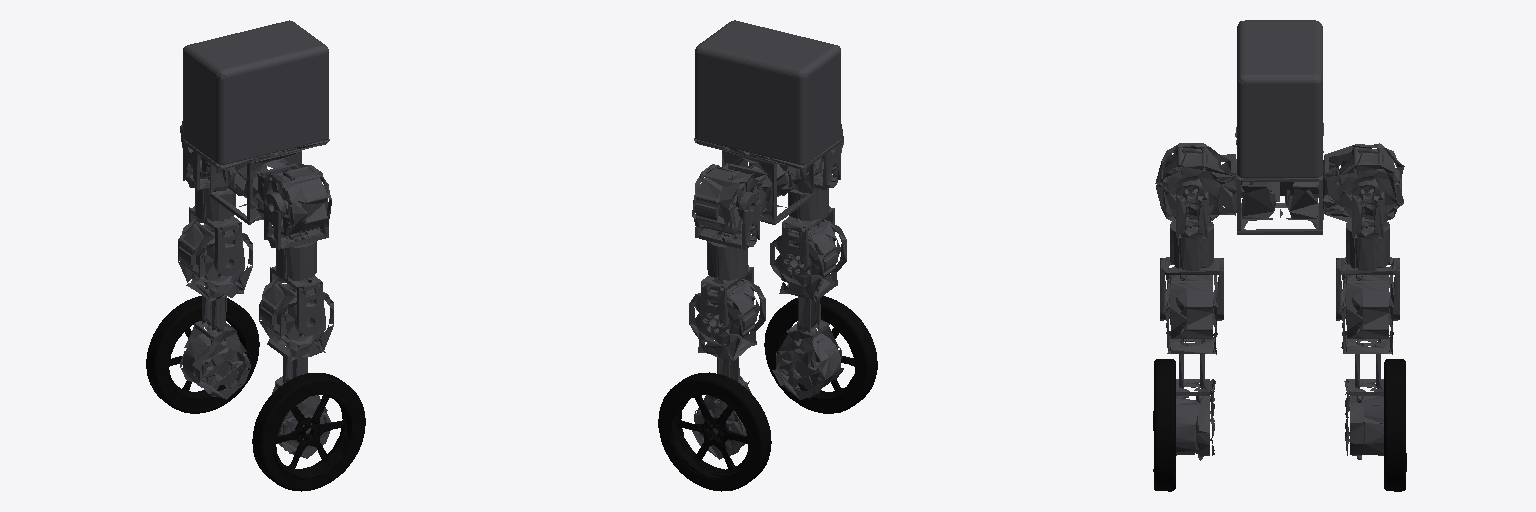
The robot description file, URDF, robot "wheeled_base":
<?xml version="1.0"?>
<!-- wheeled_base (wheeled biped). Units: m, kg, rad. X forward, Y left, Z up.
     Zero pose = straight legs; all link frames are parallel to the world frame at the zero pose. Floating base (do not fix base_link).
     Link masses are measured; centres of mass and inertias are computed from the link geometry assuming uniform density.
     Both wheel joints are positive forward. -->
<robot name="wheeled_base">
  <mujoco>
    <compiler meshdir="../meshes/" balanceinertia="true" discardvisual="false" fusestatic="false"/>
  </mujoco>
  <material name="grey"><color rgba="0.30 0.30 0.32 1"/></material>
  <material name="rubber"><color rgba="0.08 0.08 0.08 1"/></material>
  <link name="base_link">
    <inertial>
      <origin xyz="-3.340937e-06 4.382044e-06 0.06033196672" rpy="0 0 0"/>
      <mass value="3.4"/>
      <inertia ixx="0.02376990058" ixy="-5.40617e-07" ixz="-8.5821e-08" iyy="0.0264540363" iyz="1.17175e-07" izz="0.01230035642"/>
    </inertial>
    <visual>
      <origin xyz="0 0 0" rpy="0 0 0"/>
      <geometry><mesh filename="../meshes/base_link.stl"/></geometry>
      <material name="grey"/>
    </visual>
    <collision>
      <origin xyz="0 0 0" rpy="0 0 0"/>
      <geometry><mesh filename="../meshes/base_link.stl"/></geometry>
    </collision>
  </link>
  <link name="l_hip_pitch_link">
    <inertial>
      <origin xyz="0.001171727972 0.05717831507 -7.878834e-06" rpy="0 0 0"/>
      <mass value="0.907"/>
      <inertia ixx="0.001008160693" ixy="-6.536528e-06" ixz="-7.508e-09" iyy="0.000678051682" iyz="-3.31661e-07" izz="0.000874556307"/>
    </inertial>
    <visual>
      <origin xyz="0 0 0" rpy="0 0 0"/>
      <geometry><mesh filename="../meshes/l_hip_pitch_link.stl"/></geometry>
      <material name="grey"/>
    </visual>
    <collision>
      <origin xyz="0 0 0" rpy="0 0 0"/>
      <geometry><mesh filename="../meshes/l_hip_pitch_link.stl"/></geometry>
    </collision>
  </link>
  <link name="l_hip_roll_link">
    <inertial>
      <origin xyz="-0.02897229124 -5.11276e-07 -0.06563955443" rpy="0 0 0"/>
      <mass value="0.493"/>
      <inertia ixx="0.00061356616" ixy="3.441e-09" ixz="1.2336055e-05" iyy="0.000750591005" iyz="-2.0057e-08" izz="0.000318529903"/>
    </inertial>
    <visual>
      <origin xyz="0 0 0" rpy="0 0 0"/>
      <geometry><mesh filename="../meshes/l_hip_roll_link.stl"/></geometry>
      <material name="grey"/>
    </visual>
    <collision>
      <origin xyz="0 0 0" rpy="0 0 0"/>
      <geometry><mesh filename="../meshes/l_hip_roll_link.stl"/></geometry>
    </collision>
  </link>
  <link name="l_hip_yaw_link">
    <inertial>
      <origin xyz="2.224013e-06 -0.001704480951 -0.03483679166" rpy="0 0 0"/>
      <mass value="0.188"/>
      <inertia ixx="0.00031710071" ixy="-1.5384e-08" ixz="-2.458e-09" iyy="0.000150621818" iyz="-3.251714e-06" izz="0.000218238153"/>
    </inertial>
    <visual>
      <origin xyz="0 0 0" rpy="0 0 0"/>
      <geometry><mesh filename="../meshes/l_hip_yaw_link.stl"/></geometry>
      <material name="grey"/>
    </visual>
    <collision>
      <origin xyz="0 0 0" rpy="0 0 0"/>
      <geometry><mesh filename="../meshes/l_hip_yaw_link.stl"/></geometry>
    </collision>
  </link>
  <link name="l_knee_link">
    <inertial>
      <origin xyz="-8.2202884e-05 -0.0272891405 -0.07520524843" rpy="0 0 0"/>
      <mass value="1.586"/>
      <inertia ixx="0.01141531574" ixy="1.197261e-06" ixz="9.84639e-06" iyy="0.0116485081" iyz="1.9008531e-05" izz="0.001100259008"/>
    </inertial>
    <visual>
      <origin xyz="0 0 0" rpy="0 0 0"/>
      <geometry><mesh filename="../meshes/l_knee_link.stl"/></geometry>
      <material name="grey"/>
    </visual>
    <collision>
      <origin xyz="0 0 0" rpy="0 0 0"/>
      <geometry><mesh filename="../meshes/l_knee_link.stl"/></geometry>
    </collision>
  </link>
  <link name="l_wheel_link">
    <inertial>
      <origin xyz="2.136e-07 0.007425686463 -3.021e-09" rpy="0 0 0"/>
      <mass value="0.326"/>
      <inertia ixx="0.00085677991" ixy="-2.6e-11" ixz="1.9e-11" iyy="0.001675328772" iyz="0" izz="0.000856790554"/>
    </inertial>
    <visual>
      <origin xyz="0 0 0" rpy="0 0 0"/>
      <geometry><mesh filename="../meshes/l_wheel_link.stl"/></geometry>
      <material name="rubber"/>
    </visual>
    <collision>
      <origin xyz="0 0.0075 0" rpy="0 1.5707963 1.5707963268"/>
      <geometry><cylinder radius="0.085" length="0.028"/></geometry>
    </collision>
  </link>
  <link name="r_hip_pitch_link">
    <inertial>
      <origin xyz="0.001171770414 -0.05688369365 -7.878807e-06" rpy="0 0 0"/>
      <mass value="0.907"/>
      <inertia ixx="0.001005499703" ixy="4.046597e-06" ixz="-7.001e-09" iyy="0.000678051593" iyz="3.27245e-07" izz="0.000871895226"/>
    </inertial>
    <visual>
      <origin xyz="0 0 0" rpy="0 0 0"/>
      <geometry><mesh filename="../meshes/r_hip_pitch_link.stl"/></geometry>
      <material name="grey"/>
    </visual>
    <collision>
      <origin xyz="0 0 0" rpy="0 0 0"/>
      <geometry><mesh filename="../meshes/r_hip_pitch_link.stl"/></geometry>
    </collision>
  </link>
  <link name="r_hip_roll_link">
    <inertial>
      <origin xyz="-0.02897229124 -5.11276e-07 -0.06563955446" rpy="0 0 0"/>
      <mass value="0.493"/>
      <inertia ixx="0.00061356616" ixy="3.441e-09" ixz="1.2336055e-05" iyy="0.000750591005" iyz="-2.0057e-08" izz="0.000318529903"/>
    </inertial>
    <visual>
      <origin xyz="0 0 0" rpy="0 0 0"/>
      <geometry><mesh filename="../meshes/r_hip_roll_link.stl"/></geometry>
      <material name="grey"/>
    </visual>
    <collision>
      <origin xyz="0 0 0" rpy="0 0 0"/>
      <geometry><mesh filename="../meshes/r_hip_roll_link.stl"/></geometry>
    </collision>
  </link>
  <link name="r_hip_yaw_link">
    <inertial>
      <origin xyz="2.223994e-06 -0.000740055632 -0.03483679166" rpy="0 0 0"/>
      <mass value="0.188"/>
      <inertia ixx="0.000317543934" ixy="-1.4981e-08" ixz="-2.458e-09" iyy="0.000150621818" iyz="-8.652456e-06" izz="0.000218681377"/>
    </inertial>
    <visual>
      <origin xyz="0 0 0" rpy="0 0 0"/>
      <geometry><mesh filename="../meshes/r_hip_yaw_link.stl"/></geometry>
      <material name="grey"/>
    </visual>
    <collision>
      <origin xyz="0 0 0" rpy="0 0 0"/>
      <geometry><mesh filename="../meshes/r_hip_yaw_link.stl"/></geometry>
    </collision>
  </link>
  <link name="r_knee_link">
    <inertial>
      <origin xyz="-8.2636475e-05 -0.0285796872 -0.07520524819" rpy="0 0 0"/>
      <mass value="1.586"/>
      <inertia ixx="0.01141799945" ixy="1.365507e-06" ixz="9.817062e-06" iyy="0.01164850797" iyz="-0.000175397053" izz="0.00110294261"/>
    </inertial>
    <visual>
      <origin xyz="0 0 0" rpy="0 0 0"/>
      <geometry><mesh filename="../meshes/r_knee_link.stl"/></geometry>
      <material name="grey"/>
    </visual>
    <collision>
      <origin xyz="0 0 0" rpy="0 0 0"/>
      <geometry><mesh filename="../meshes/r_knee_link.stl"/></geometry>
    </collision>
  </link>
  <link name="r_wheel_link">
    <inertial>
      <origin xyz="-2.136e-07 -0.007425686463 -3.021e-09" rpy="0 0 0"/>
      <mass value="0.326"/>
      <inertia ixx="0.00085677991" ixy="-2.6e-11" ixz="-1.9e-11" iyy="0.001675328772" iyz="0" izz="0.000856790554"/>
    </inertial>
    <visual>
      <origin xyz="0 0 0" rpy="0 0 0"/>
      <geometry><mesh filename="../meshes/r_wheel_link.stl"/></geometry>
      <material name="rubber"/>
    </visual>
    <collision>
      <origin xyz="0 -0.0075 0" rpy="0 1.5707963 1.5707963268"/>
      <geometry><cylinder radius="0.085" length="0.028"/></geometry>
    </collision>
  </link>
  <joint name="l_hip_pitch_joint" type="revolute">
    <parent link="base_link"/>
    <child link="l_hip_pitch_link"/>
    <origin xyz="0 0.05074 0" rpy="0 0 0"/>
    <axis xyz="0 1 0"/>
    <limit lower="-1.308997" upper="1.308997" effort="36" velocity="50"/>
    <dynamics damping="0.5" friction="0"/>
  </joint>
  <joint name="l_hip_roll_joint" type="revolute">
    <parent link="l_hip_pitch_link"/>
    <child link="l_hip_roll_link"/>
    <origin xyz="0.02859 0.06201 0" rpy="0 0 0"/>
    <axis xyz="-1 0 0"/>
    <limit lower="-1.22173" upper="0.349066" effort="36" velocity="50"/>
    <dynamics damping="0.5" friction="0"/>
  </joint>
  <joint name="l_hip_yaw_joint" type="revolute">
    <parent link="l_hip_roll_link"/>
    <child link="l_hip_yaw_link"/>
    <origin xyz="-0.02859 0 -0.10916" rpy="0 0 0"/>
    <axis xyz="0 0 1"/>
    <limit lower="-1.047198" upper="1.047198" effort="14" velocity="33"/>
    <dynamics damping="0.5" friction="0"/>
  </joint>
  <joint name="l_knee_joint" type="revolute">
    <parent link="l_hip_yaw_link"/>
    <child link="l_knee_link"/>
    <origin xyz="0 0.02859 -0.06084" rpy="0 0 0"/>
    <axis xyz="0 1 0"/>
    <limit lower="0" upper="2.094395" effort="36" velocity="50"/>
    <dynamics damping="0.5" friction="0"/>
  </joint>
  <joint name="l_wheel_joint" type="continuous">
    <parent link="l_knee_link"/>
    <child link="l_wheel_link"/>
    <origin xyz="0 -0.00129 -0.17" rpy="0 0 0"/>
    <axis xyz="0 1 0"/>
    <limit effort="17" velocity="43"/>
    <dynamics damping="0.05" friction="0"/>
  </joint>
  <joint name="r_hip_pitch_joint" type="revolute">
    <parent link="base_link"/>
    <child link="r_hip_pitch_link"/>
    <origin xyz="0 -0.05074 0" rpy="0 0 0"/>
    <axis xyz="0 1 0"/>
    <limit lower="-1.308997" upper="1.308997" effort="36" velocity="50"/>
    <dynamics damping="0.5" friction="0"/>
  </joint>
  <joint name="r_hip_roll_joint" type="revolute">
    <parent link="r_hip_pitch_link"/>
    <child link="r_hip_roll_link"/>
    <origin xyz="0.02859 -0.06201 0" rpy="0 0 0"/>
    <axis xyz="-1 0 0"/>
    <limit lower="-0.349066" upper="1.22173" effort="36" velocity="50"/>
    <dynamics damping="0.5" friction="0"/>
  </joint>
  <joint name="r_hip_yaw_joint" type="revolute">
    <parent link="r_hip_roll_link"/>
    <child link="r_hip_yaw_link"/>
    <origin xyz="-0.02859 0 -0.10916" rpy="0 0 0"/>
    <axis xyz="0 0 1"/>
    <limit lower="-1.047198" upper="1.047198" effort="14" velocity="33"/>
    <dynamics damping="0.5" friction="0"/>
  </joint>
  <joint name="r_knee_joint" type="revolute">
    <parent link="r_hip_yaw_link"/>
    <child link="r_knee_link"/>
    <origin xyz="0 0.02859 -0.06084" rpy="0 0 0"/>
    <axis xyz="0 1 0"/>
    <limit lower="0" upper="2.094395" effort="36" velocity="50"/>
    <dynamics damping="0.5" friction="0"/>
  </joint>
  <joint name="r_wheel_joint" type="continuous">
    <parent link="r_knee_link"/>
    <child link="r_wheel_link"/>
    <origin xyz="0 -0.05589 -0.17" rpy="0 0 0"/>
    <axis xyz="0 1 0"/>
    <limit effort="17" velocity="43"/>
    <dynamics damping="0.05" friction="0"/>
  </joint>
</robot>

--- Render facts (derived) ---
3 views of the same robot in one strip: view 1: azimuth 30°, elevation 25°; view 2: azimuth 150°, elevation 25°; view 3: azimuth 270°, elevation 25° (orthographic).
Model wheeled_base with 11 links and 10 joints (8 revolute, 2 continuous), rooted at base_link, posed all joints at 0.
Visible links, largest first — view 1: base_link, r_wheel_link, l_knee_link, l_wheel_link, r_knee_link, r_hip_pitch_link, r_hip_roll_link, l_hip_roll_link, l_hip_yaw_link, r_hip_yaw_link; view 2: base_link, l_wheel_link, r_knee_link, r_wheel_link, l_knee_link, l_hip_pitch_link, l_hip_roll_link, r_hip_roll_link, r_hip_yaw_link, l_hip_yaw_link; view 3: base_link, l_knee_link, r_knee_link, l_hip_pitch_link, r_hip_pitch_link, l_hip_roll_link, r_hip_roll_link, r_wheel_link, l_wheel_link, l_hip_yaw_link, r_hip_yaw_link.
Link boxes in pixels (box(x1,y1,x2,y2)): base_link: box(182, 20, 329, 224); r_wheel_link: box(252, 373, 365, 491); l_knee_link: box(178, 218, 252, 399); l_wheel_link: box(146, 296, 259, 413); r_knee_link: box(259, 277, 333, 458); r_hip_pitch_link: box(255, 164, 331, 237); r_hip_roll_link: box(264, 185, 328, 280); l_hip_roll_link: box(183, 144, 235, 221); l_hip_yaw_link: box(189, 206, 241, 276); r_hip_yaw_link: box(270, 266, 322, 335); base_link: box(694, 20, 841, 224); l_wheel_link: box(658, 372, 771, 491); r_knee_link: box(770, 219, 846, 399); r_wheel_link: box(764, 296, 877, 413); l_knee_link: box(689, 279, 765, 459); l_hip_pitch_link: box(692, 163, 769, 238); l_hip_roll_link: box(695, 184, 759, 280); r_hip_roll_link: box(788, 143, 840, 220); r_hip_yaw_link: box(782, 206, 834, 276); l_hip_yaw_link: box(701, 265, 753, 335); base_link: box(1235, 20, 1323, 234); l_knee_link: box(1341, 275, 1393, 459); r_knee_link: box(1165, 275, 1218, 460); l_hip_pitch_link: box(1323, 143, 1404, 223); r_hip_pitch_link: box(1155, 143, 1236, 225); l_hip_roll_link: box(1346, 181, 1389, 270); r_hip_roll_link: box(1170, 181, 1213, 270); r_wheel_link: box(1153, 359, 1175, 491); l_wheel_link: box(1384, 359, 1406, 491); l_hip_yaw_link: box(1336, 257, 1399, 320); r_hip_yaw_link: box(1160, 257, 1223, 320).
Bounding box of the posed robot: 0.1805 × 0.3245 × 0.619 m (x, y, z).
Meshes: 11 distinct files referenced, 11 mesh visuals loaded (11 binary STL).
